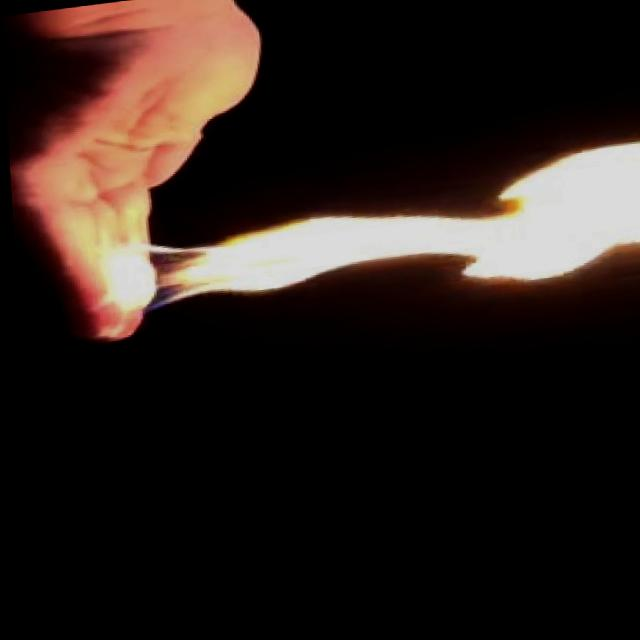Fire: (93, 149, 640, 344)
